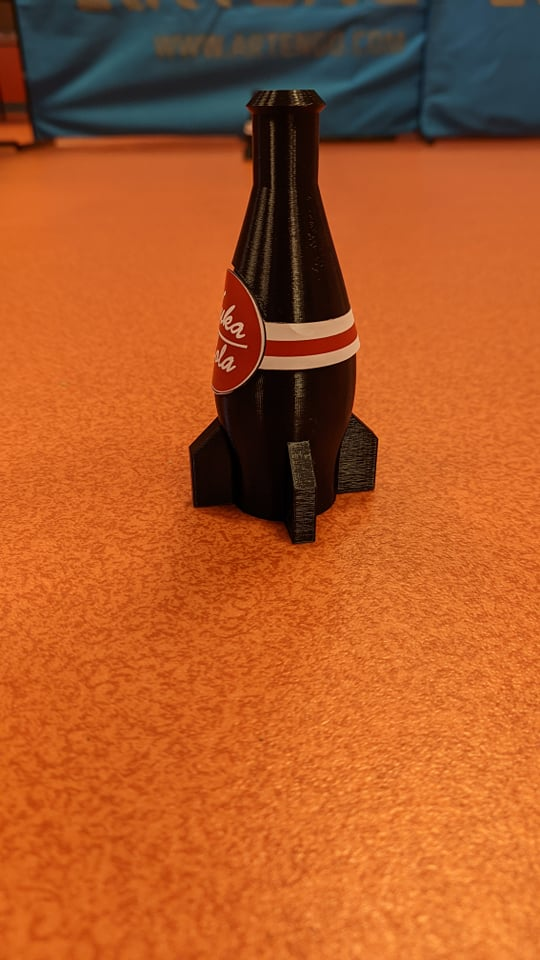bottle: (151, 82, 399, 561)
